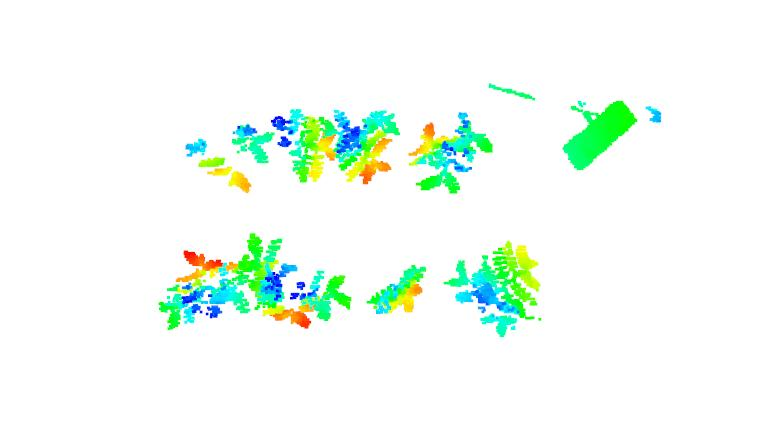chickpea: (245, 232, 352, 332), (452, 240, 549, 336), (170, 122, 271, 202), (151, 246, 242, 327), (407, 112, 494, 196), (332, 105, 407, 185), (276, 109, 338, 189), (367, 260, 434, 316)
